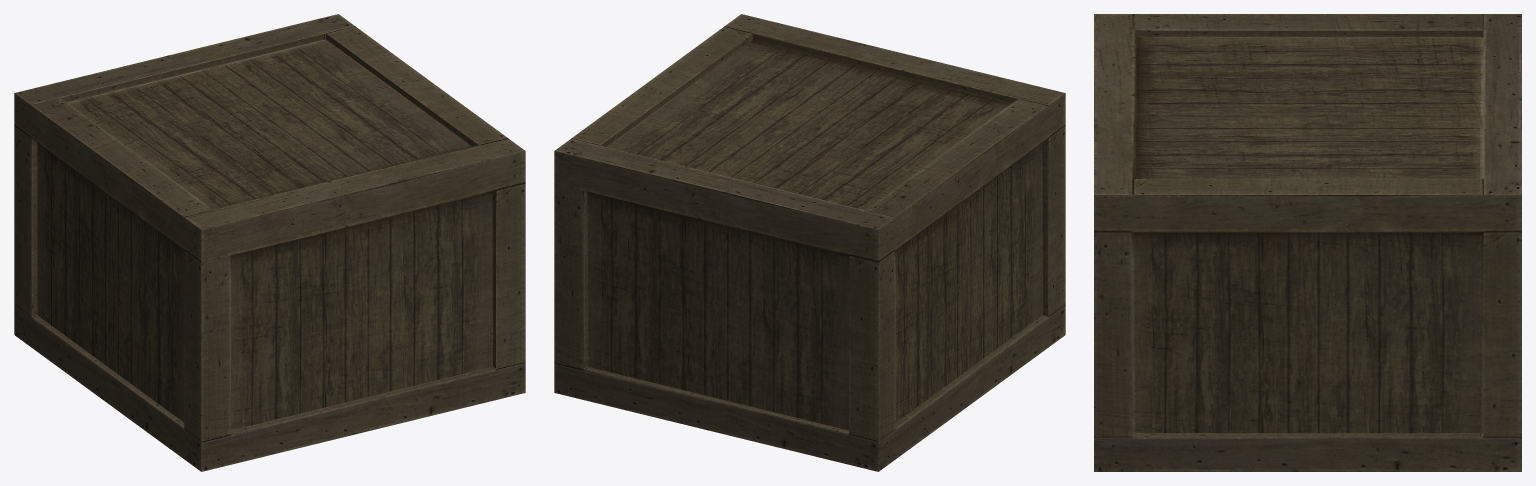
File: wooden_crate_hx_6.obj
3 views of the same model, side by side, from view 1: azimuth 30°, elevation 25°; view 2: azimuth 150°, elevation 25°; view 3: azimuth 270°, elevation 25° (orthographic). The views are drawn at different scales.
Parts seen in each view (by area): view 1: wooden_crate_hx_6; view 2: wooden_crate_hx_6; view 3: wooden_crate_hx_6.
Part boxes in pixels (<box>): wooden_crate_hx_6: <box>14,14,525,471</box>; wooden_crate_hx_6: <box>554,14,1065,471</box>; wooden_crate_hx_6: <box>1094,14,1521,471</box>.
Bounding box in the file's own units: 1.4 × 1 × 1.4.
